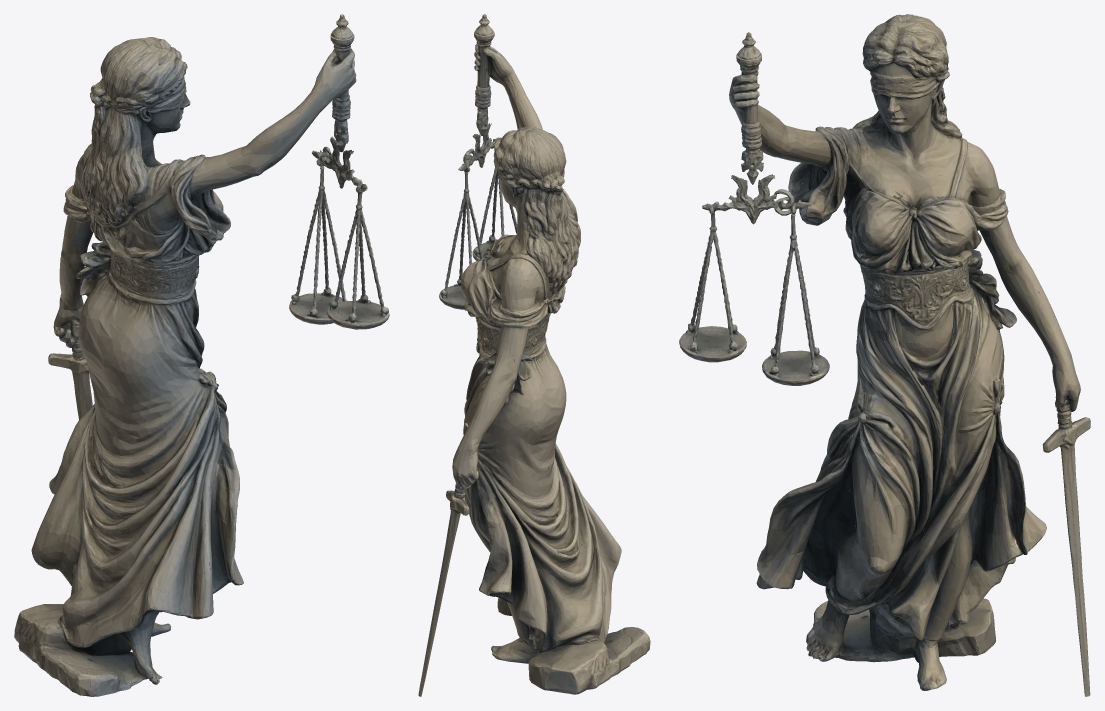
File: ladyjustice-transformed.glb
3 renders of one model, left to right at view 1: azimuth 30°, elevation 25°; view 2: azimuth 150°, elevation 25°; view 3: azimuth 270°, elevation 25°, orthographic. The views are drawn at different scales.
Parts seen in each view (by area): view 1: edit1; view 2: edit1; view 3: edit1.
Boxes of the visible parts, x1,y1,x2,y2 form: edit1: (14, 14, 389, 696); edit1: (418, 14, 650, 696); edit1: (679, 14, 1090, 696).
Bounding box in the file's own units: 2.35 × 5.74 × 3.03.
1 material, 1 textured.
